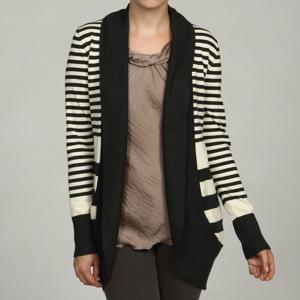C_cardigan sweater: (48, 8, 270, 287)
